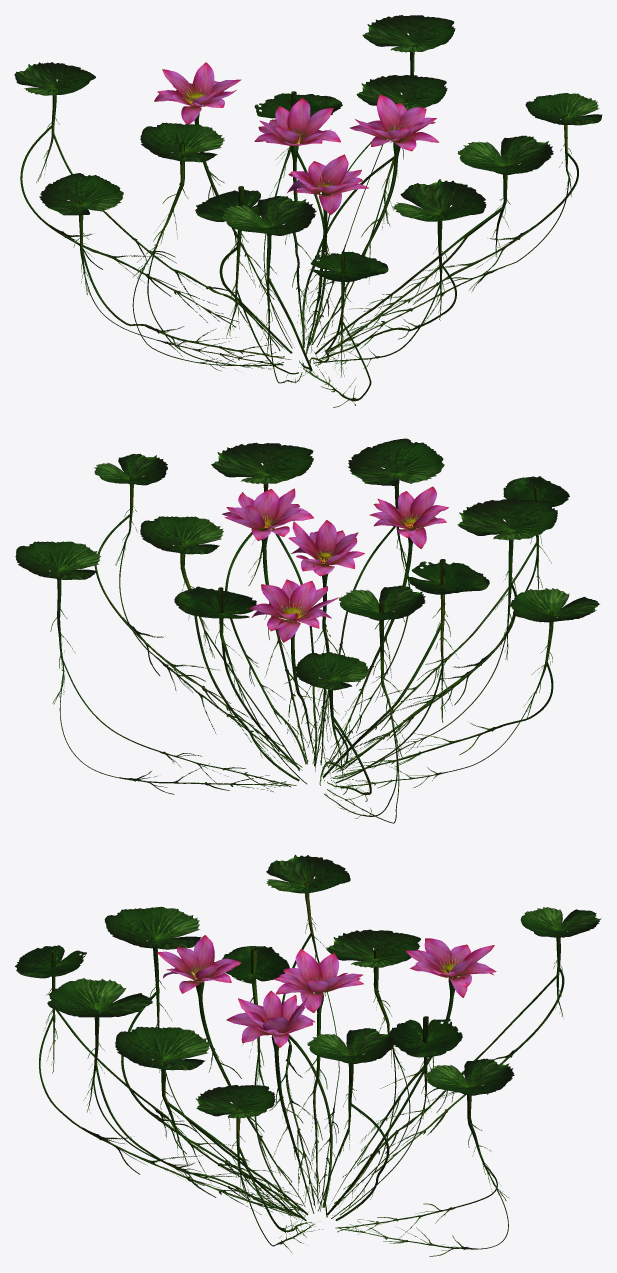
File: Lotus (1).fbx
3 renders of one model, top to bottom at view 1: azimuth 30°, elevation 25°; view 2: azimuth 150°, elevation 25°; view 3: azimuth 270°, elevation 25°, orthographic. The views are drawn at different scales.
Parts seen in each view (by area): view 1: LOD0; view 2: LOD0; view 3: LOD0.
Boxes of the visible parts, x1,y1,x2,y2 form: LOD0: (14, 15, 602, 407); LOD0: (15, 438, 599, 823); LOD0: (15, 854, 601, 1256).
Size of the model in its own units: 265 by 128 by 250.
3 materials, 3 textured.
